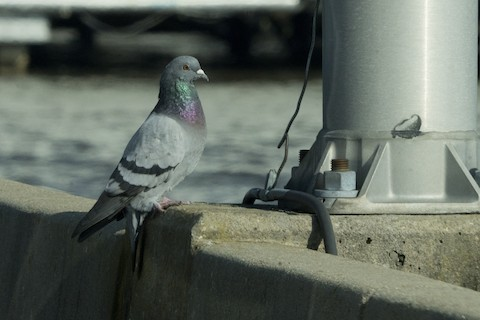pigeon: (69, 54, 210, 250)
